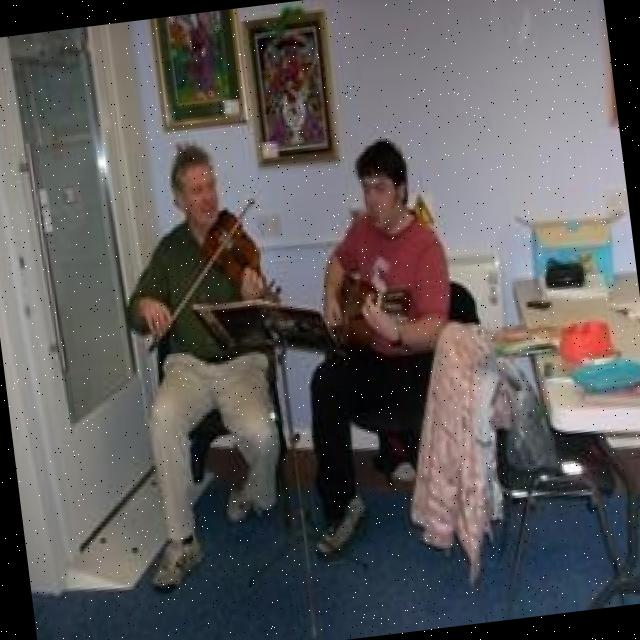violin: (196, 204, 283, 309)
